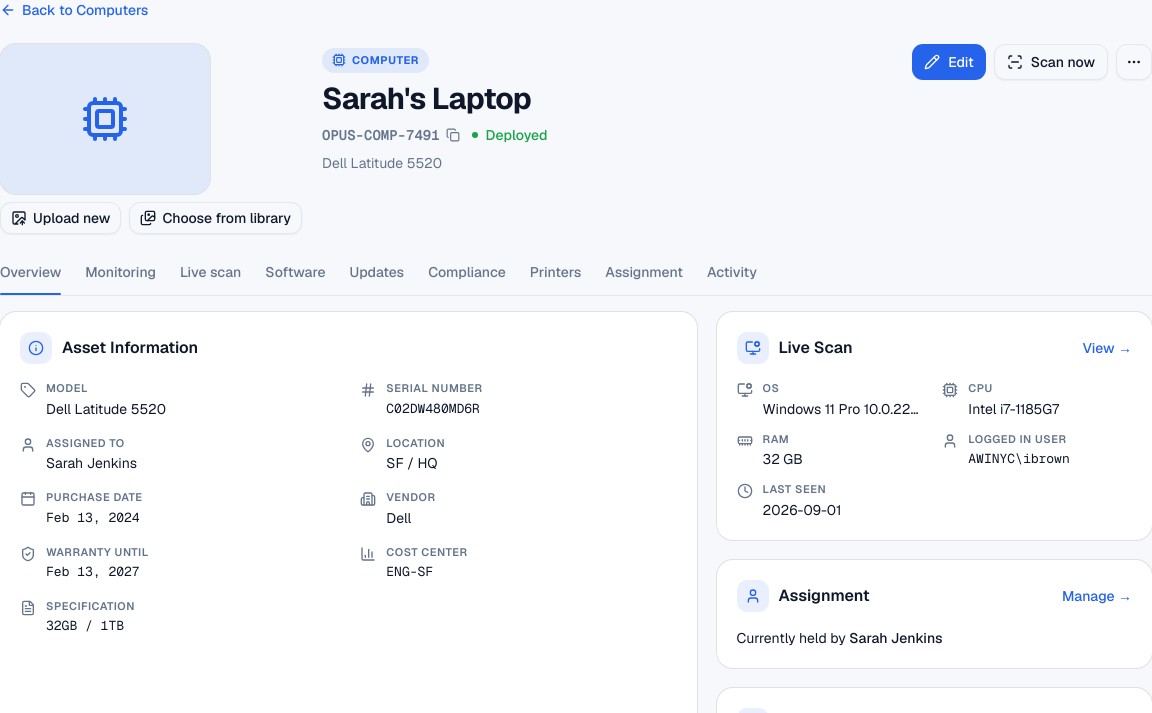
Test: ComputerDetail — tabs + content (AC-4.2, AC-4.3) › puts AI Assist under Monitoring when aiEnabled is true
Expected: the button "Summarize health" is not shown
Click the tab "Monitoring" at coordinates (121, 277), box [85,258,156,296]
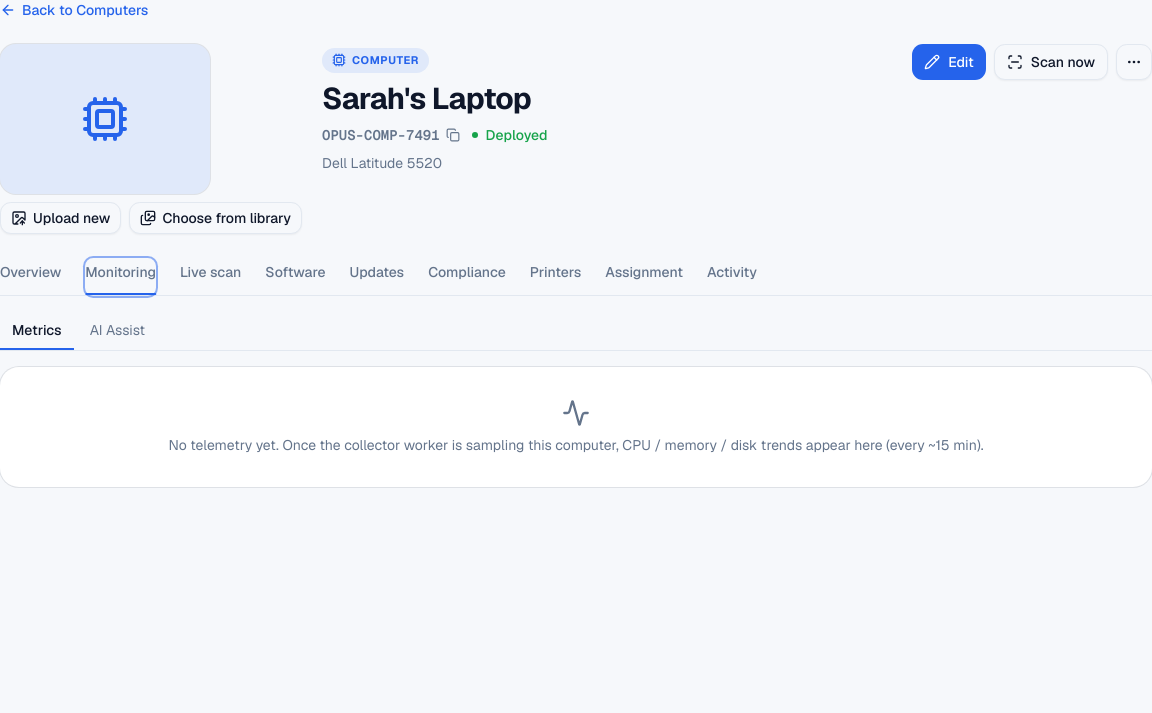
Click the tab "AI Assist" at coordinates (117, 331), box [78,312,157,350]
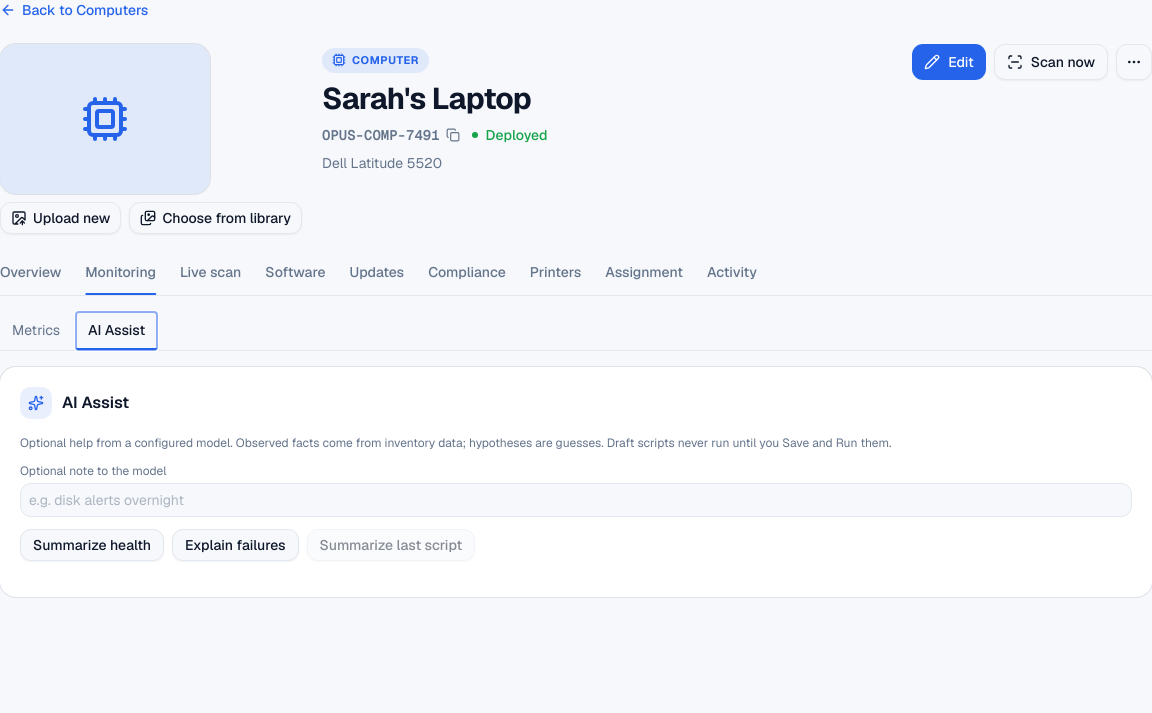
Expected: the button "Summarize health" is shown, [20,529,164,561]
